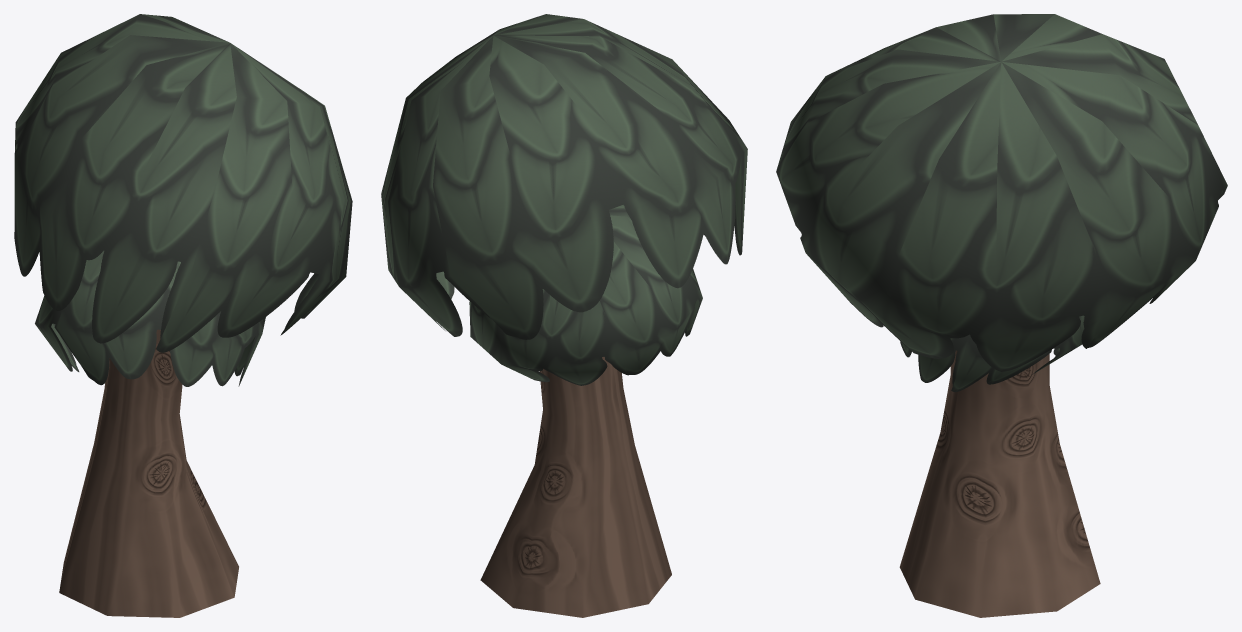
File: tree_b_01.FBX
3 renders of one model, left to right at view 1: azimuth 30°, elevation 25°; view 2: azimuth 150°, elevation 25°; view 3: azimuth 270°, elevation 25°, orthographic. The views are drawn at different scales.
Parts seen in each view (by area): view 1: tree_b_01; view 2: tree_b_01; view 3: tree_b_01.
Boxes of the visible parts, x1,y1,x2,y2 form: tree_b_01: (14,14,352,617); tree_b_01: (381,14,747,617); tree_b_01: (776,14,1227,617).
Size of the model in its own units: 27.12 by 46.23 by 33.5.
Materials: 2 (2 with a texture image).
